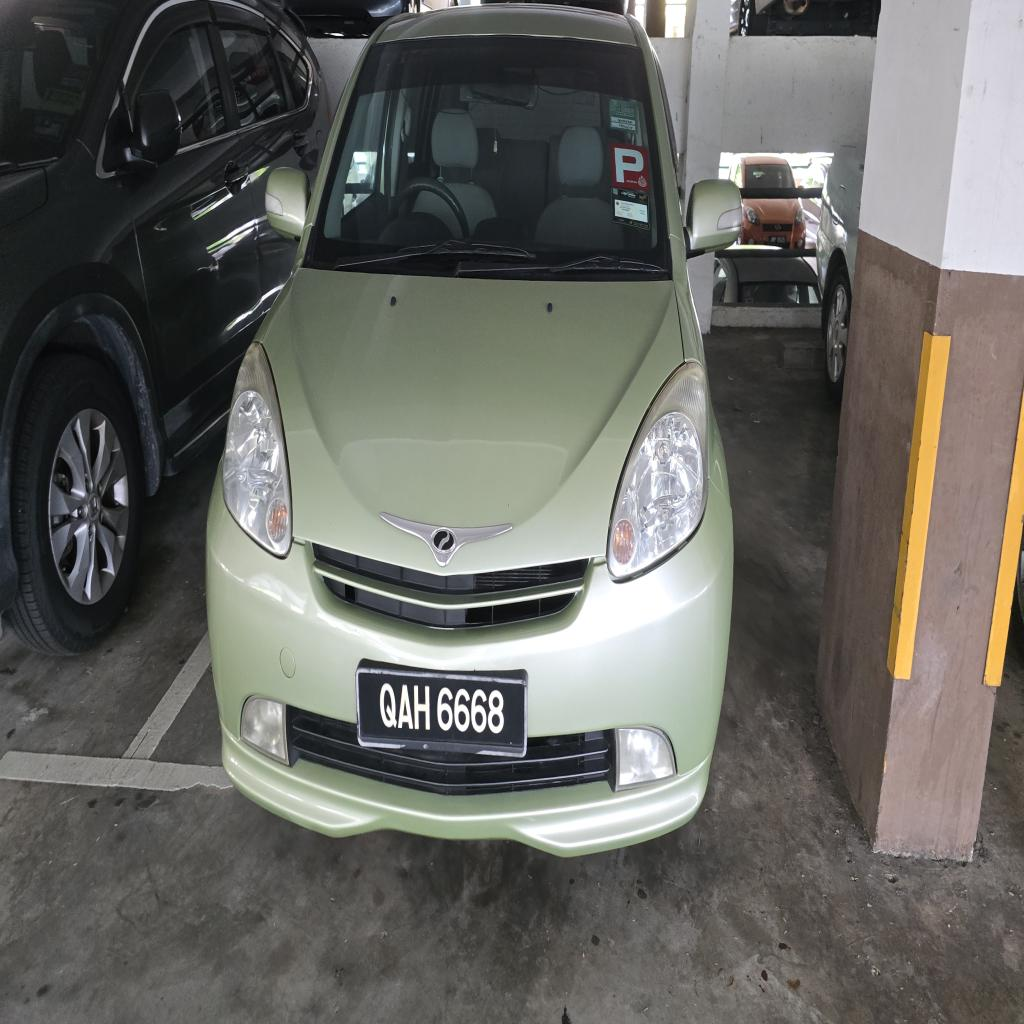car: (208, 5, 741, 854)
car plate: (357, 663, 526, 756)
